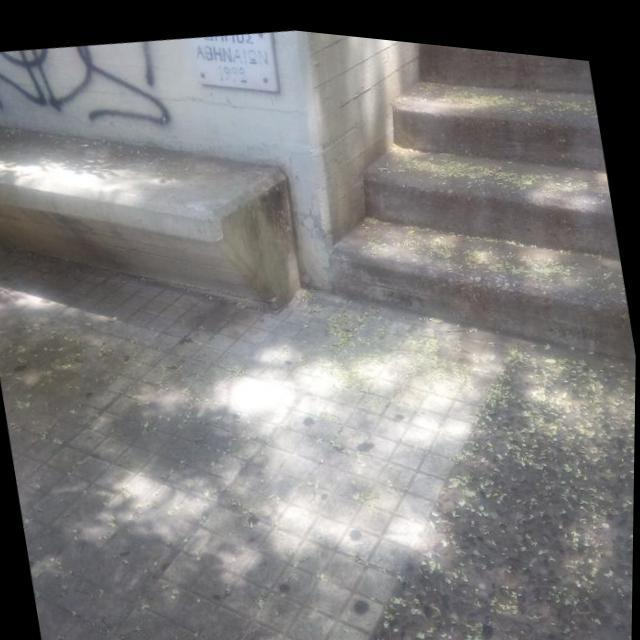-: (0, 23, 173, 159)
